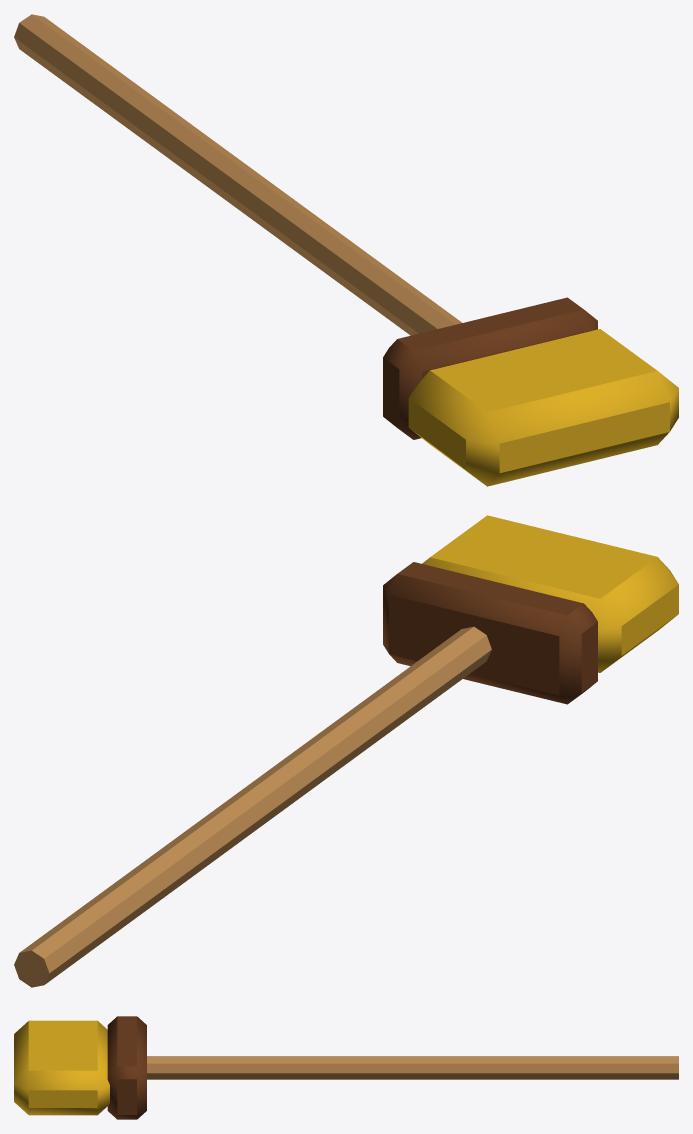
File: c_broom.glb
The picture shows the model from 3 angles, top to bottom: view 1: azimuth 30°, elevation 25°; view 2: azimuth 150°, elevation 25°; view 3: azimuth 270°, elevation 25°; orthographic projection. The views are drawn at different scales.
Parts seen in each view (by area): view 1: body; view 2: body; view 3: body.
Boxes of the visible parts, <box> form: body: <box>14,14,678,486</box>; body: <box>14,515,678,987</box>; body: <box>14,1016,678,1119</box>.
Size of the model in its own units: 0.3 by 0.12 by 1.35.
